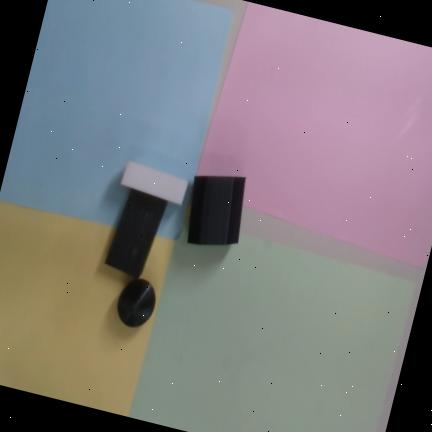Esfera: (117, 278, 156, 327)
Paralelepipedo: (104, 188, 167, 279), (119, 159, 188, 205)
Prisma_hexagonal: (187, 176, 246, 245)
